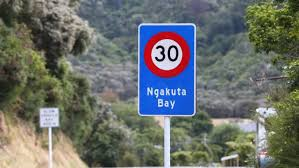Speed_limit_30km: (143, 32, 191, 80)
